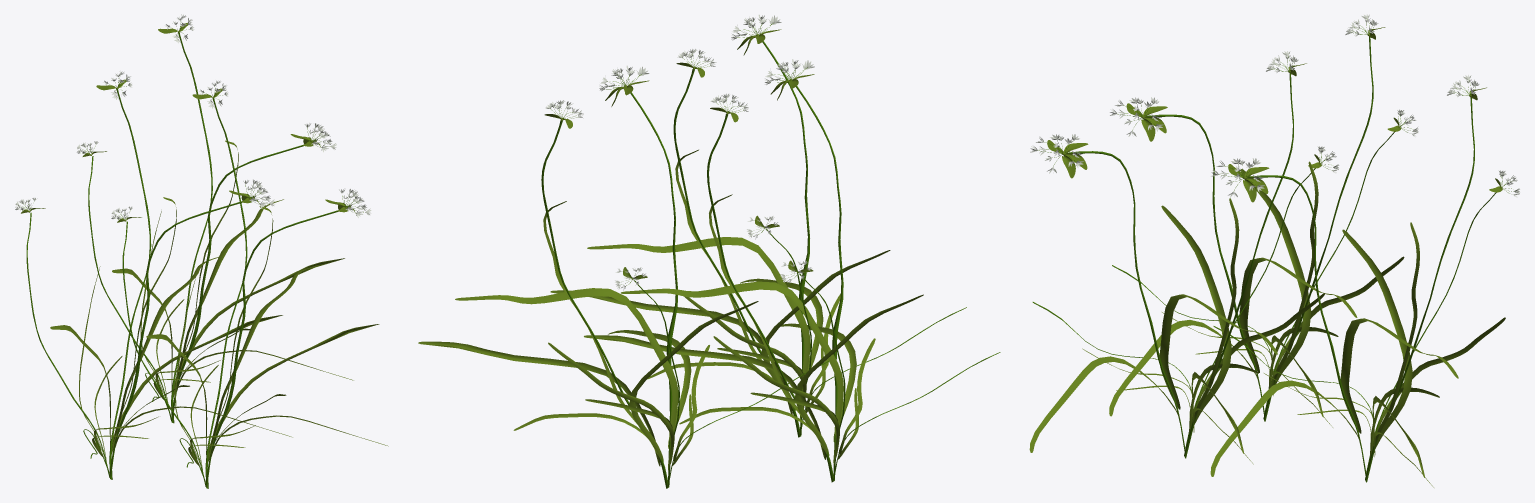
The model's file is apio silvestre.glb.
3 views of the same model, side by side, from view 1: azimuth 30°, elevation 25°; view 2: azimuth 150°, elevation 25°; view 3: azimuth 270°, elevation 25° (orthographic). The views are drawn at different scales.
Visible parts, largest first — view 1: GS Autumn plant B 01.002, GS Autumn plant B 01, GS Autumn plant B 01.001; view 2: GS Autumn plant B 01.001, GS Autumn plant B 01, GS Autumn plant B 01.002; view 3: GS Autumn plant B 01.001, GS Autumn plant B 01.002, GS Autumn plant B 01.
Part boxes in pixels (x1=…): GS Autumn plant B 01.002: x1=111, y1=80, x2=388, y2=488; GS Autumn plant B 01: x1=15, y1=71, x2=292, y2=479; GS Autumn plant B 01.001: x1=77, y1=14, x2=353, y2=423; GS Autumn plant B 01.001: x1=418, y1=65, x2=828, y2=488; GS Autumn plant B 01: x1=584, y1=59, x2=1000, y2=482; GS Autumn plant B 01.002: x1=550, y1=14, x2=966, y2=437; GS Autumn plant B 01.001: x1=1210, y1=75, x2=1519, y2=487; GS Autumn plant B 01.002: x1=1029, y1=51, x2=1339, y2=464; GS Autumn plant B 01: x1=1109, y1=14, x2=1418, y2=427.
Bounding box in the file's own units: 18.33 × 16.46 × 16.94.
